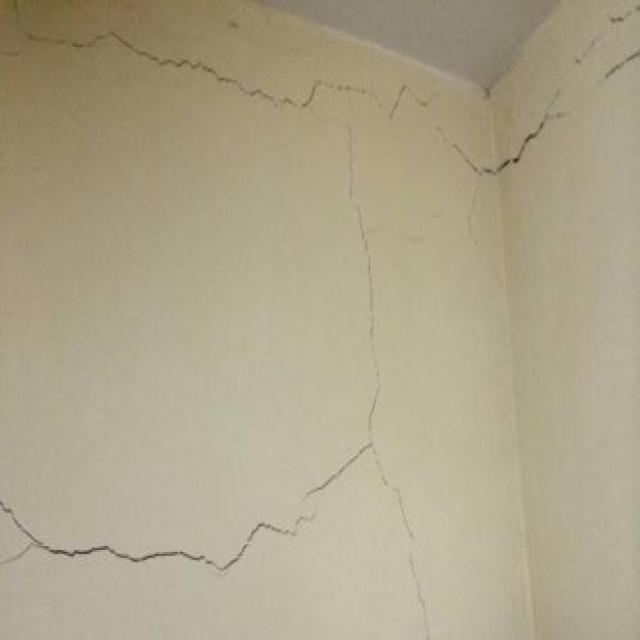crack: (24, 22, 436, 117), (0, 497, 321, 572), (346, 122, 382, 435), (436, 109, 576, 177)
